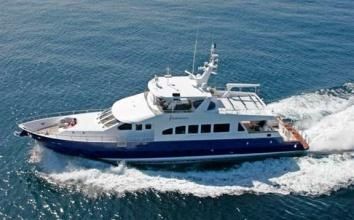yacht: (19, 49, 312, 165)
